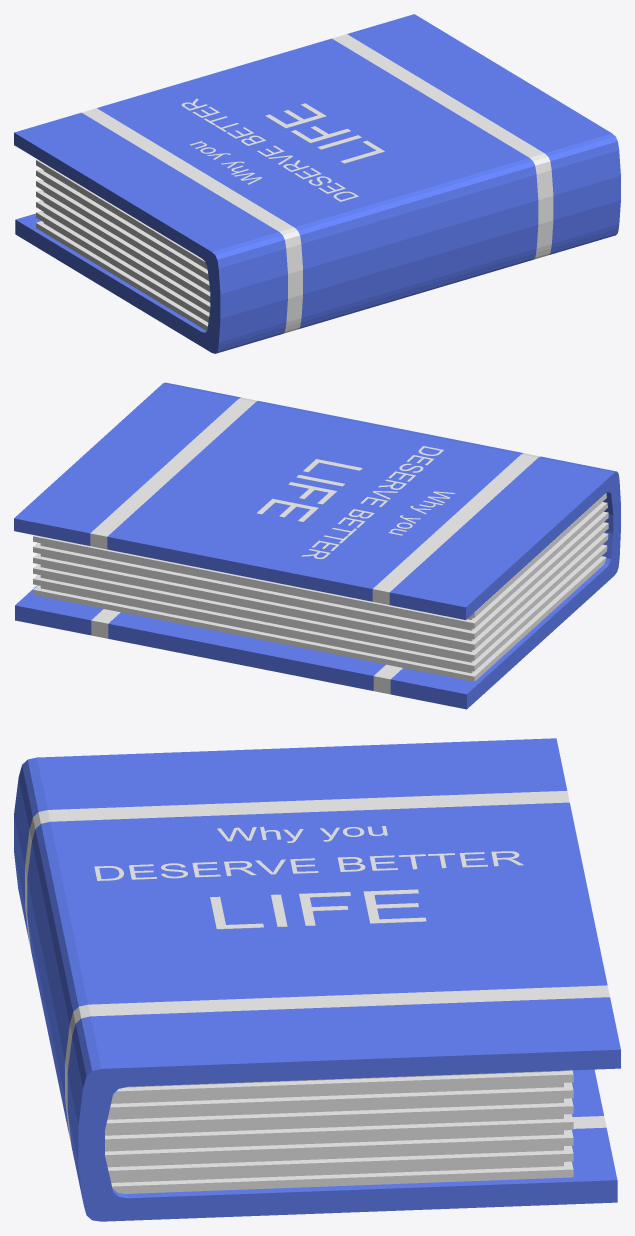
The picture shows the model from 3 angles, top to bottom: view 1: azimuth 30°, elevation 25°; view 2: azimuth 150°, elevation 25°; view 3: azimuth 270°, elevation 25°; orthographic projection. The views are drawn at different scales.
Parts seen in each view (by area): view 1: Box001, Box002, Text002, Text003; view 2: Box001, Box002, Text002, Text003, Text001; view 3: Box001, Box002, Text002, Text003, Text001.
Part boxes in pixels (x1=…): Box001: x1=14, y1=14, x2=620, y2=353; Box002: x1=36, y1=159, x2=210, y2=330; Text002: x1=181, y1=98, x2=358, y2=201; Text003: x1=265, y1=103, x2=384, y2=163; Box001: x1=14, y1=382, x2=620, y2=709; Box002: x1=33, y1=493, x2=608, y2=681; Text002: x1=301, y1=446, x2=443, y2=559; Text003: x1=256, y1=459, x2=362, y2=521; Text001: x1=388, y1=491, x2=455, y2=535; Box001: x1=14, y1=738, x2=620, y2=1221; Box002: x1=105, y1=1070, x2=573, y2=1193; Text002: x1=94, y1=851, x2=523, y2=880; Text003: x1=210, y1=889, x2=426, y2=929; Text001: x1=217, y1=826, x2=387, y2=842.
Bounding box in the file's own units: 800723 × 172474 × 619693.
